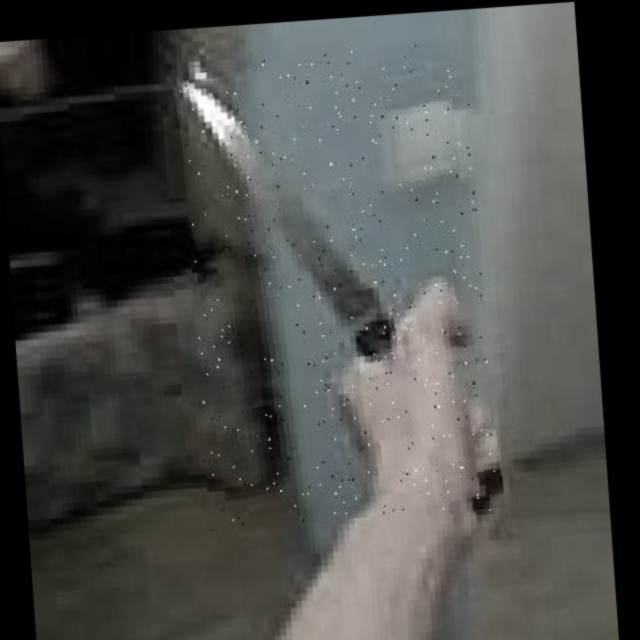Sharp-Object: (178, 41, 498, 530)
